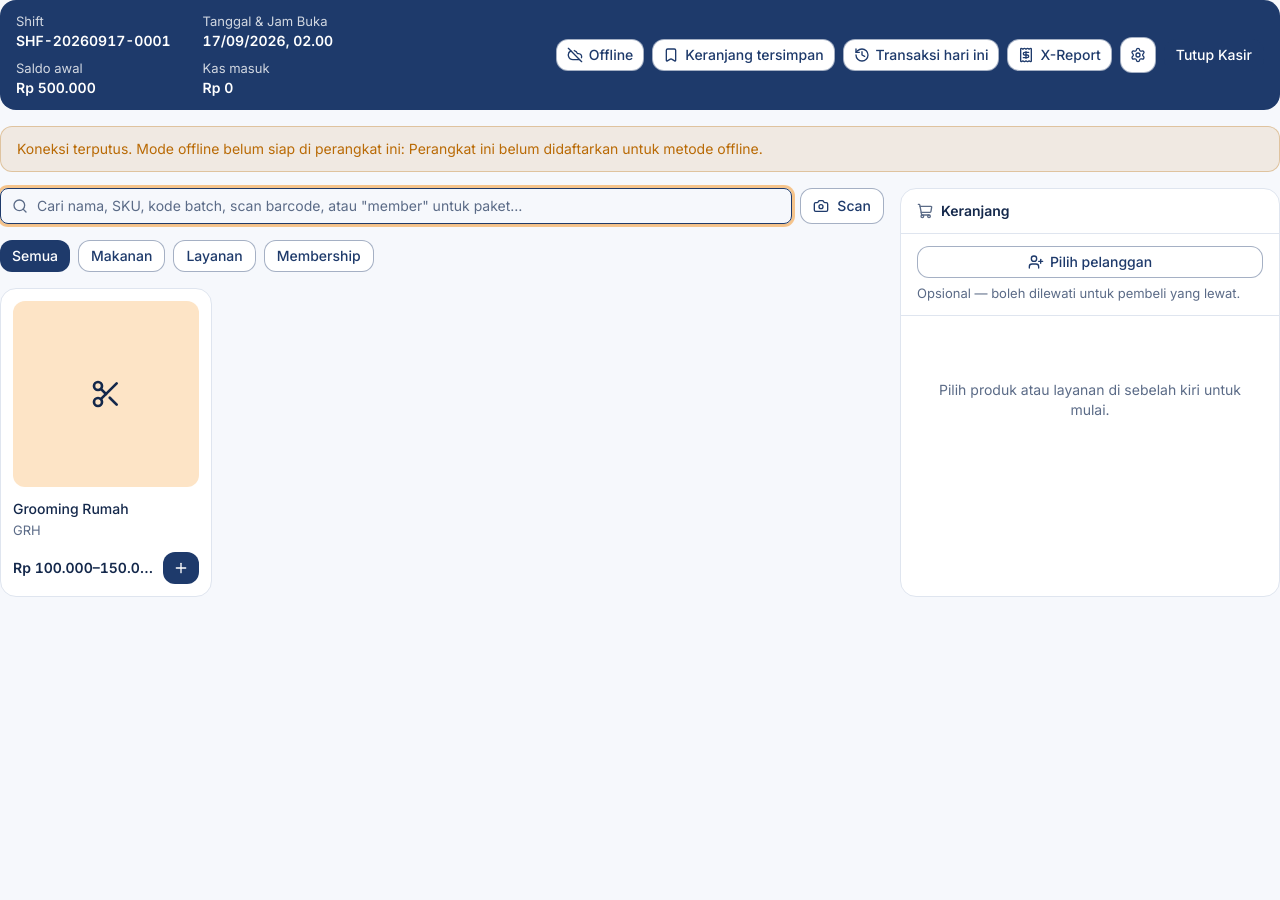
PosServicePetDialog — priced beyond the animal › previews the price of the variant for the chosen Lokasi
This screenshot has width=1280, height=900.
Step 1. Click the button "Pilih pelanggan" → (1090, 262), box [917,246,1263,278]
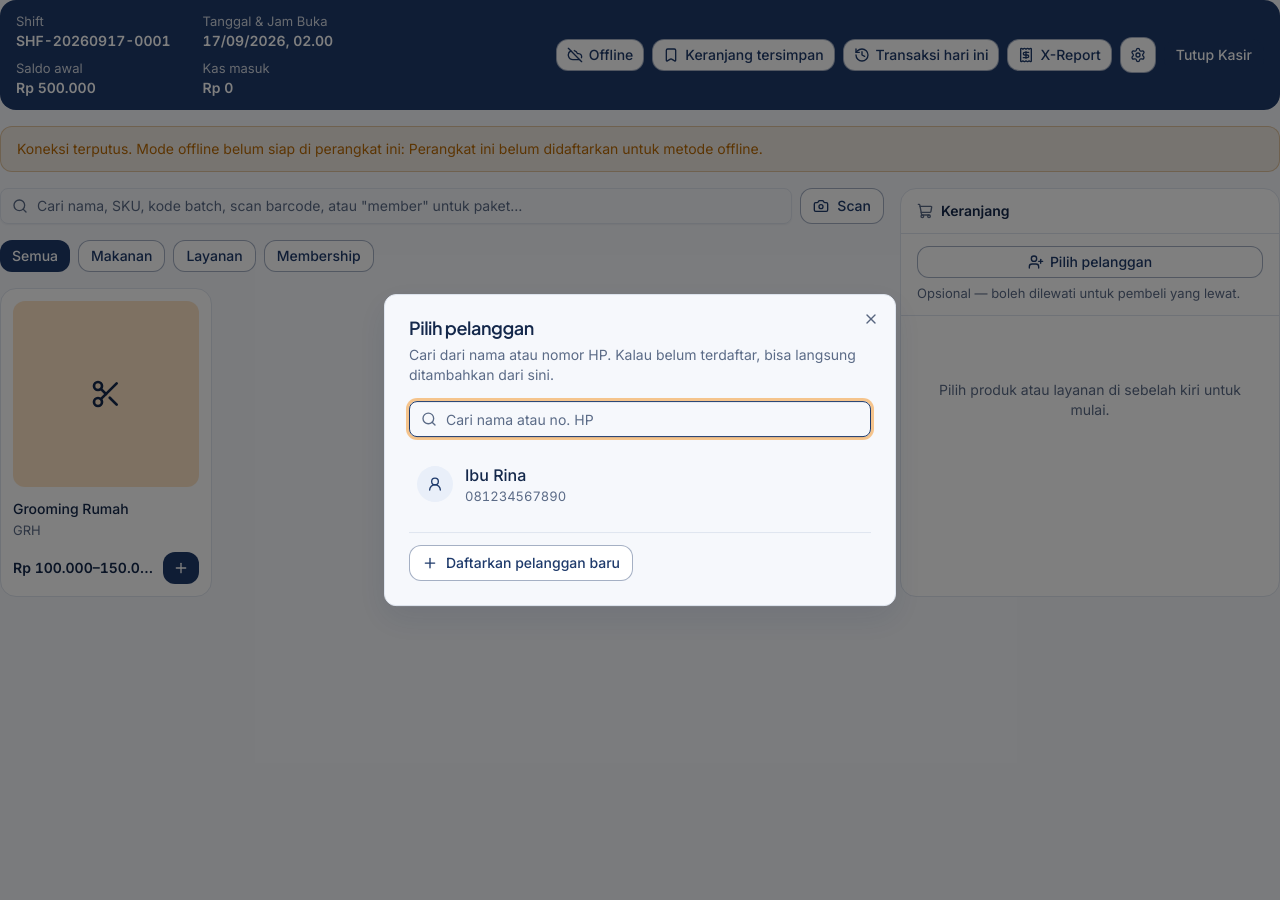
Step 2. Click the text "Ibu Rina" → (496, 475), box [465,465,526,485]
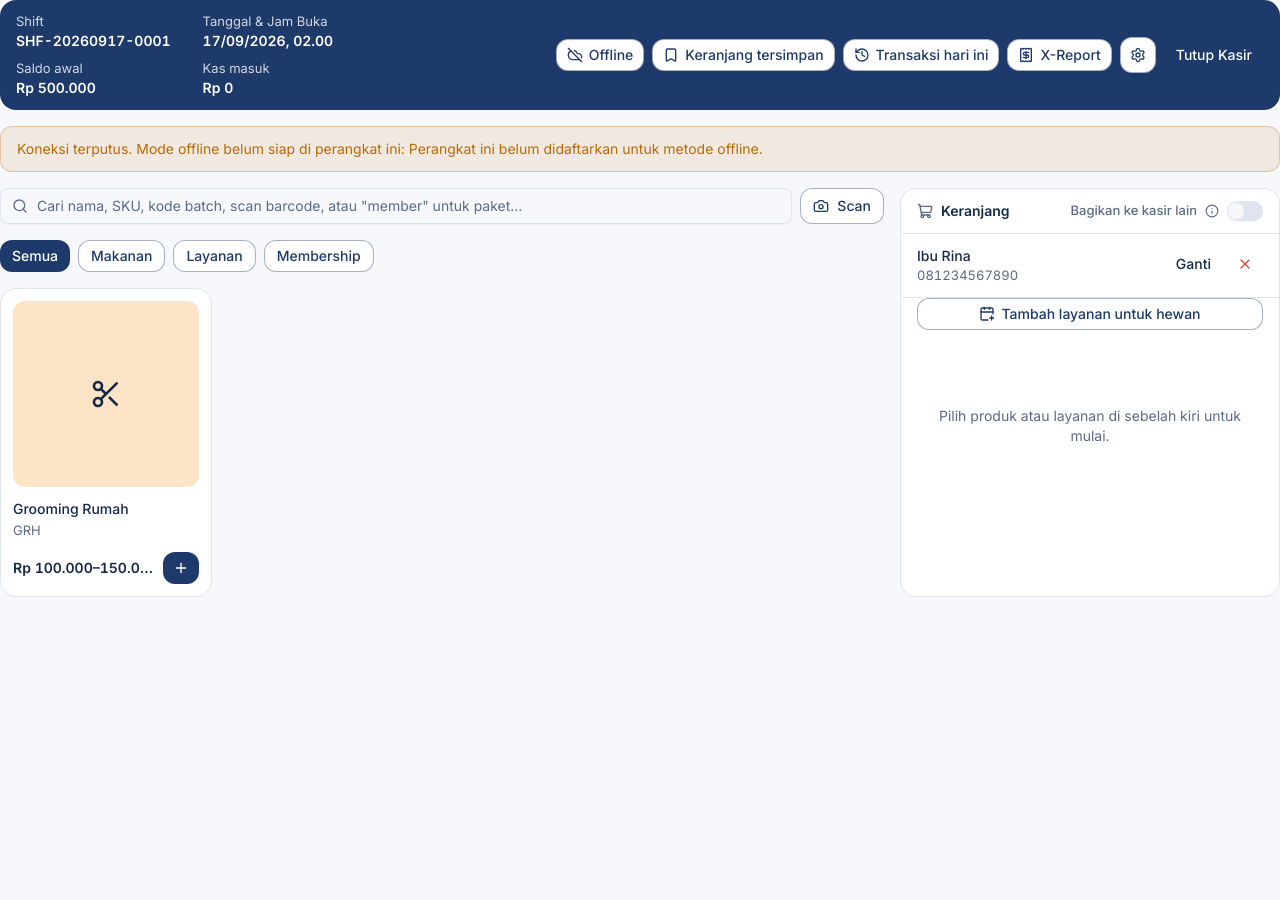
Step 3. Click the button named "grooming rumah" → (181, 568), box [163,552,199,584]
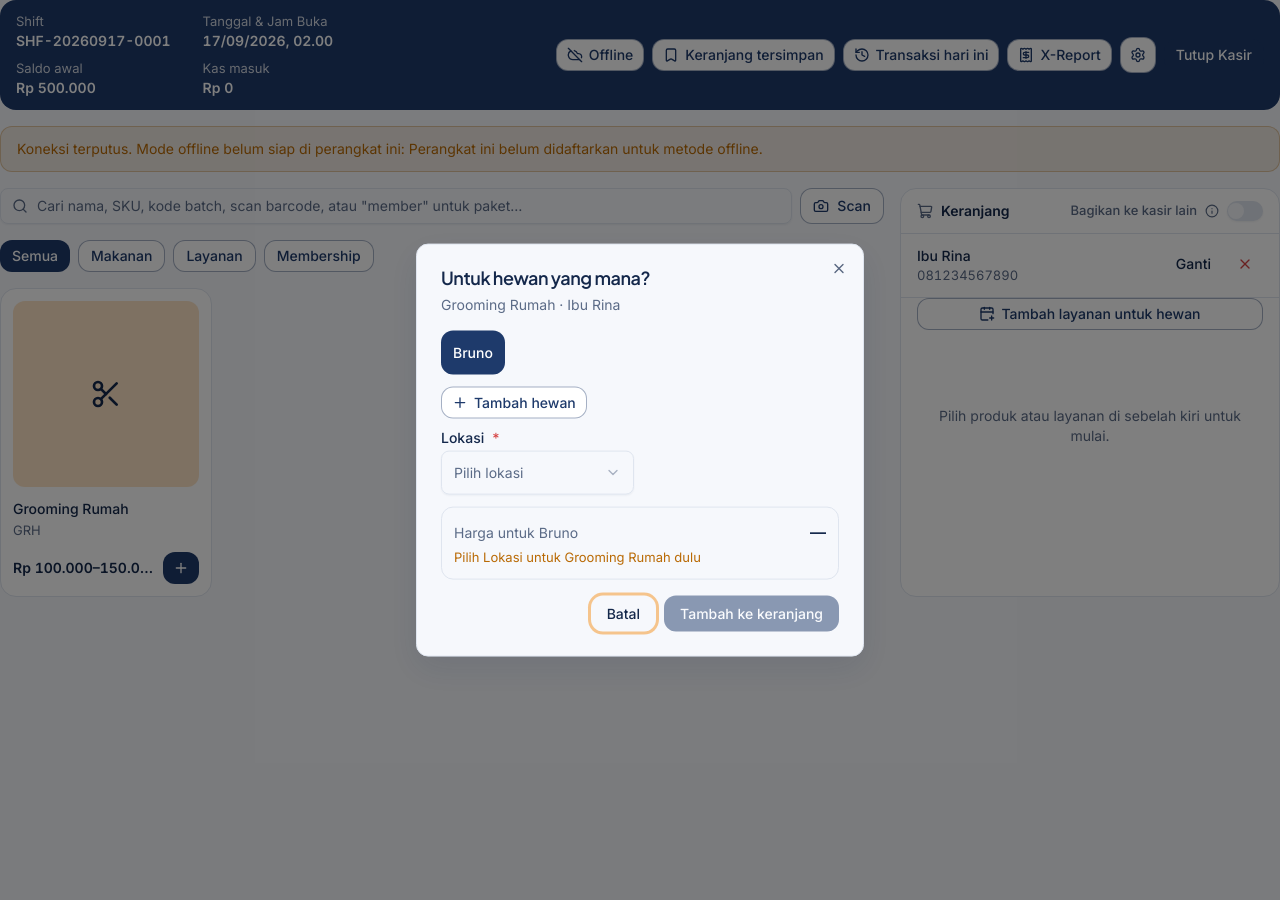
expect the heading "Untuk hewan yang mana?" is shown: met, box [441,266,650,289]
Step 4. Click the dropdown labelled "lokasi" → (538, 473), box [441,451,634,495]
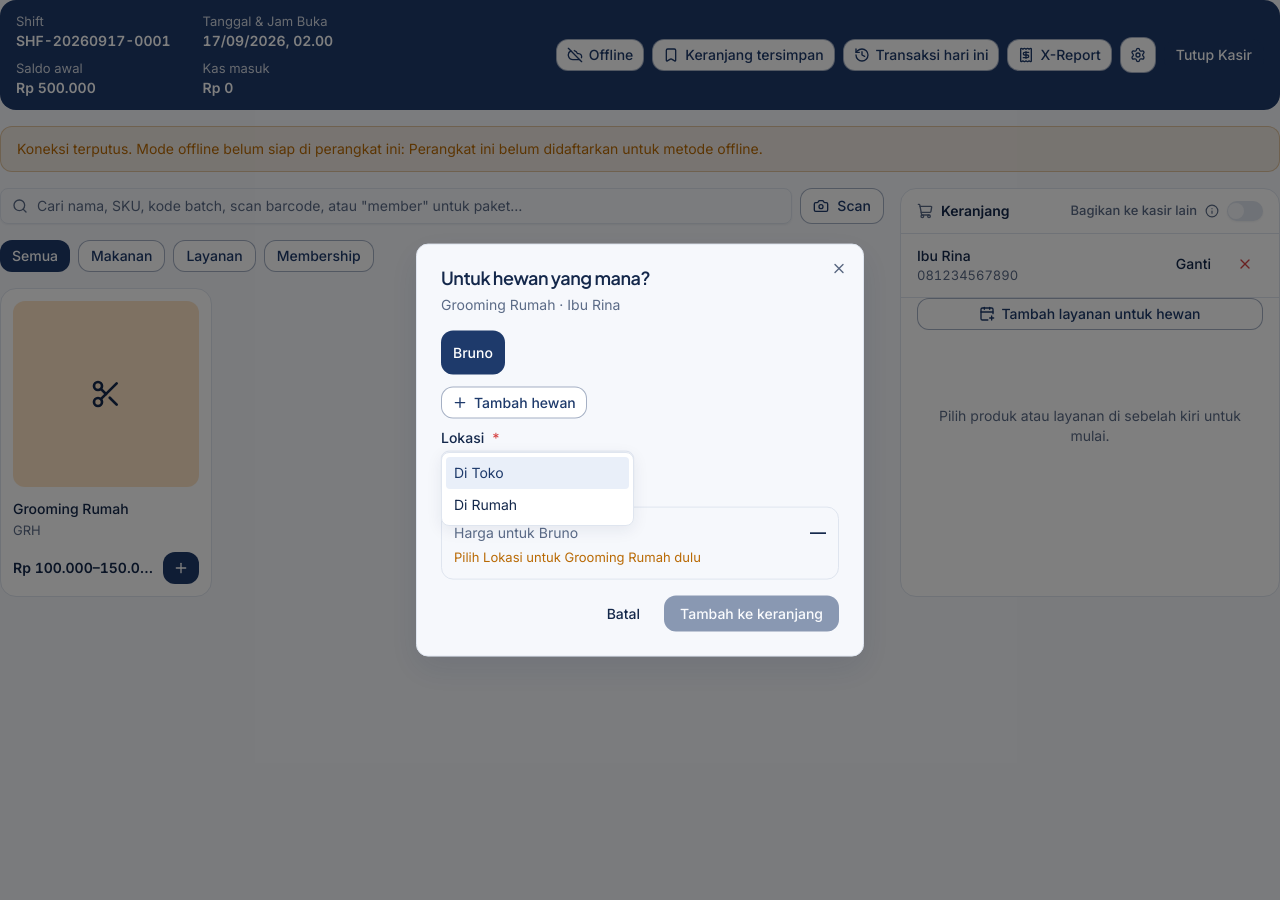
Step 5. Click the option "Di Rumah" → (486, 504), box [454,496,517,513]
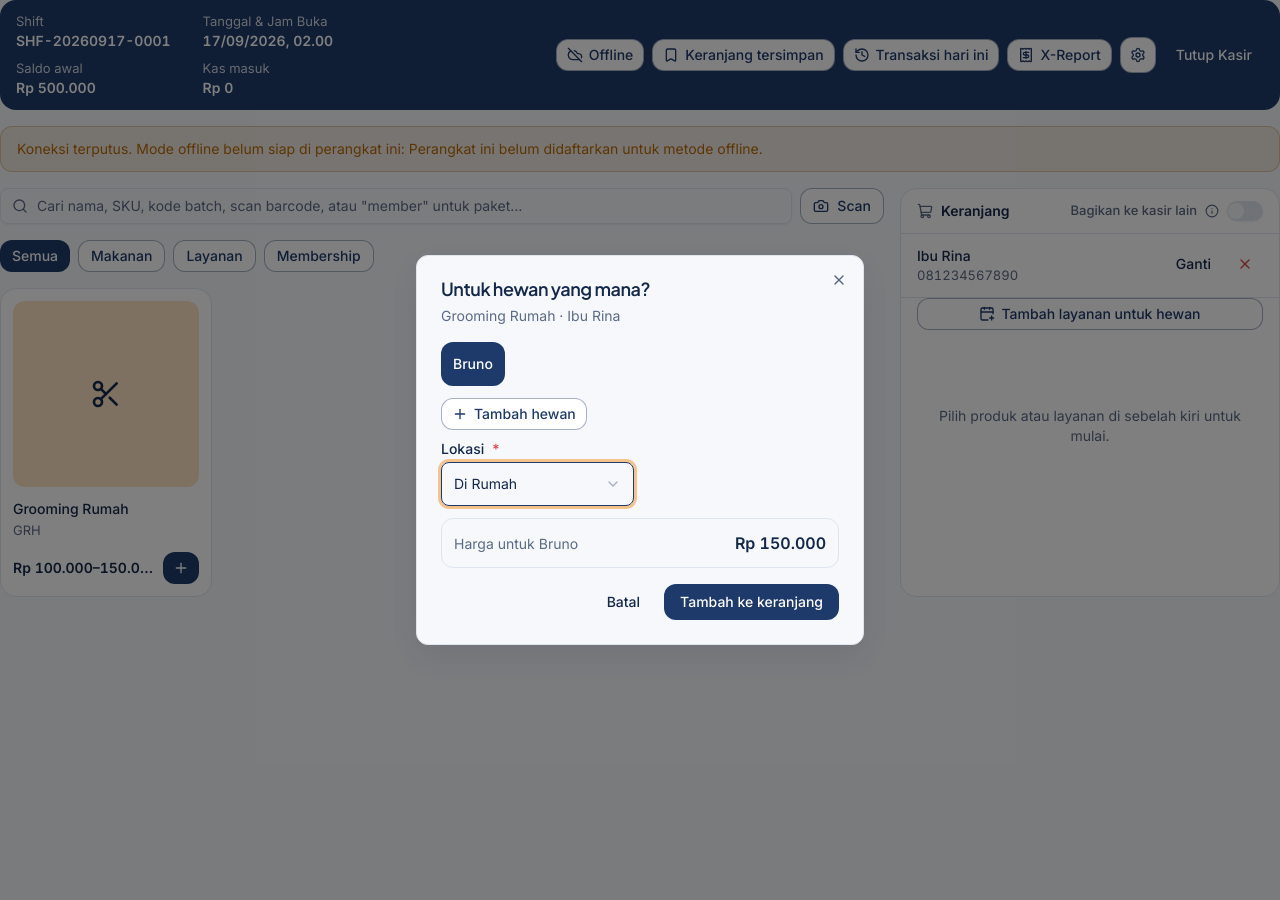
expect the text "Rp 150.000" is shown: met, box [735,531,826,555]
expect the text "Pilih Lokasi untuk" is gone: met
expect the button "Tambah ke keranjang" is enabled: met, box [664,584,839,620]
